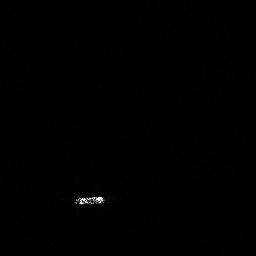ship: (71, 193, 108, 209)
